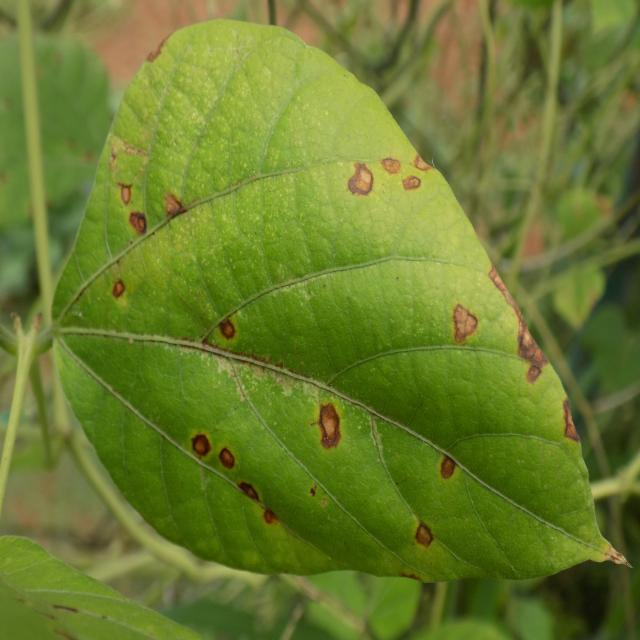Dolicos bean_cercospora leaf spot: (53, 15, 640, 589)
